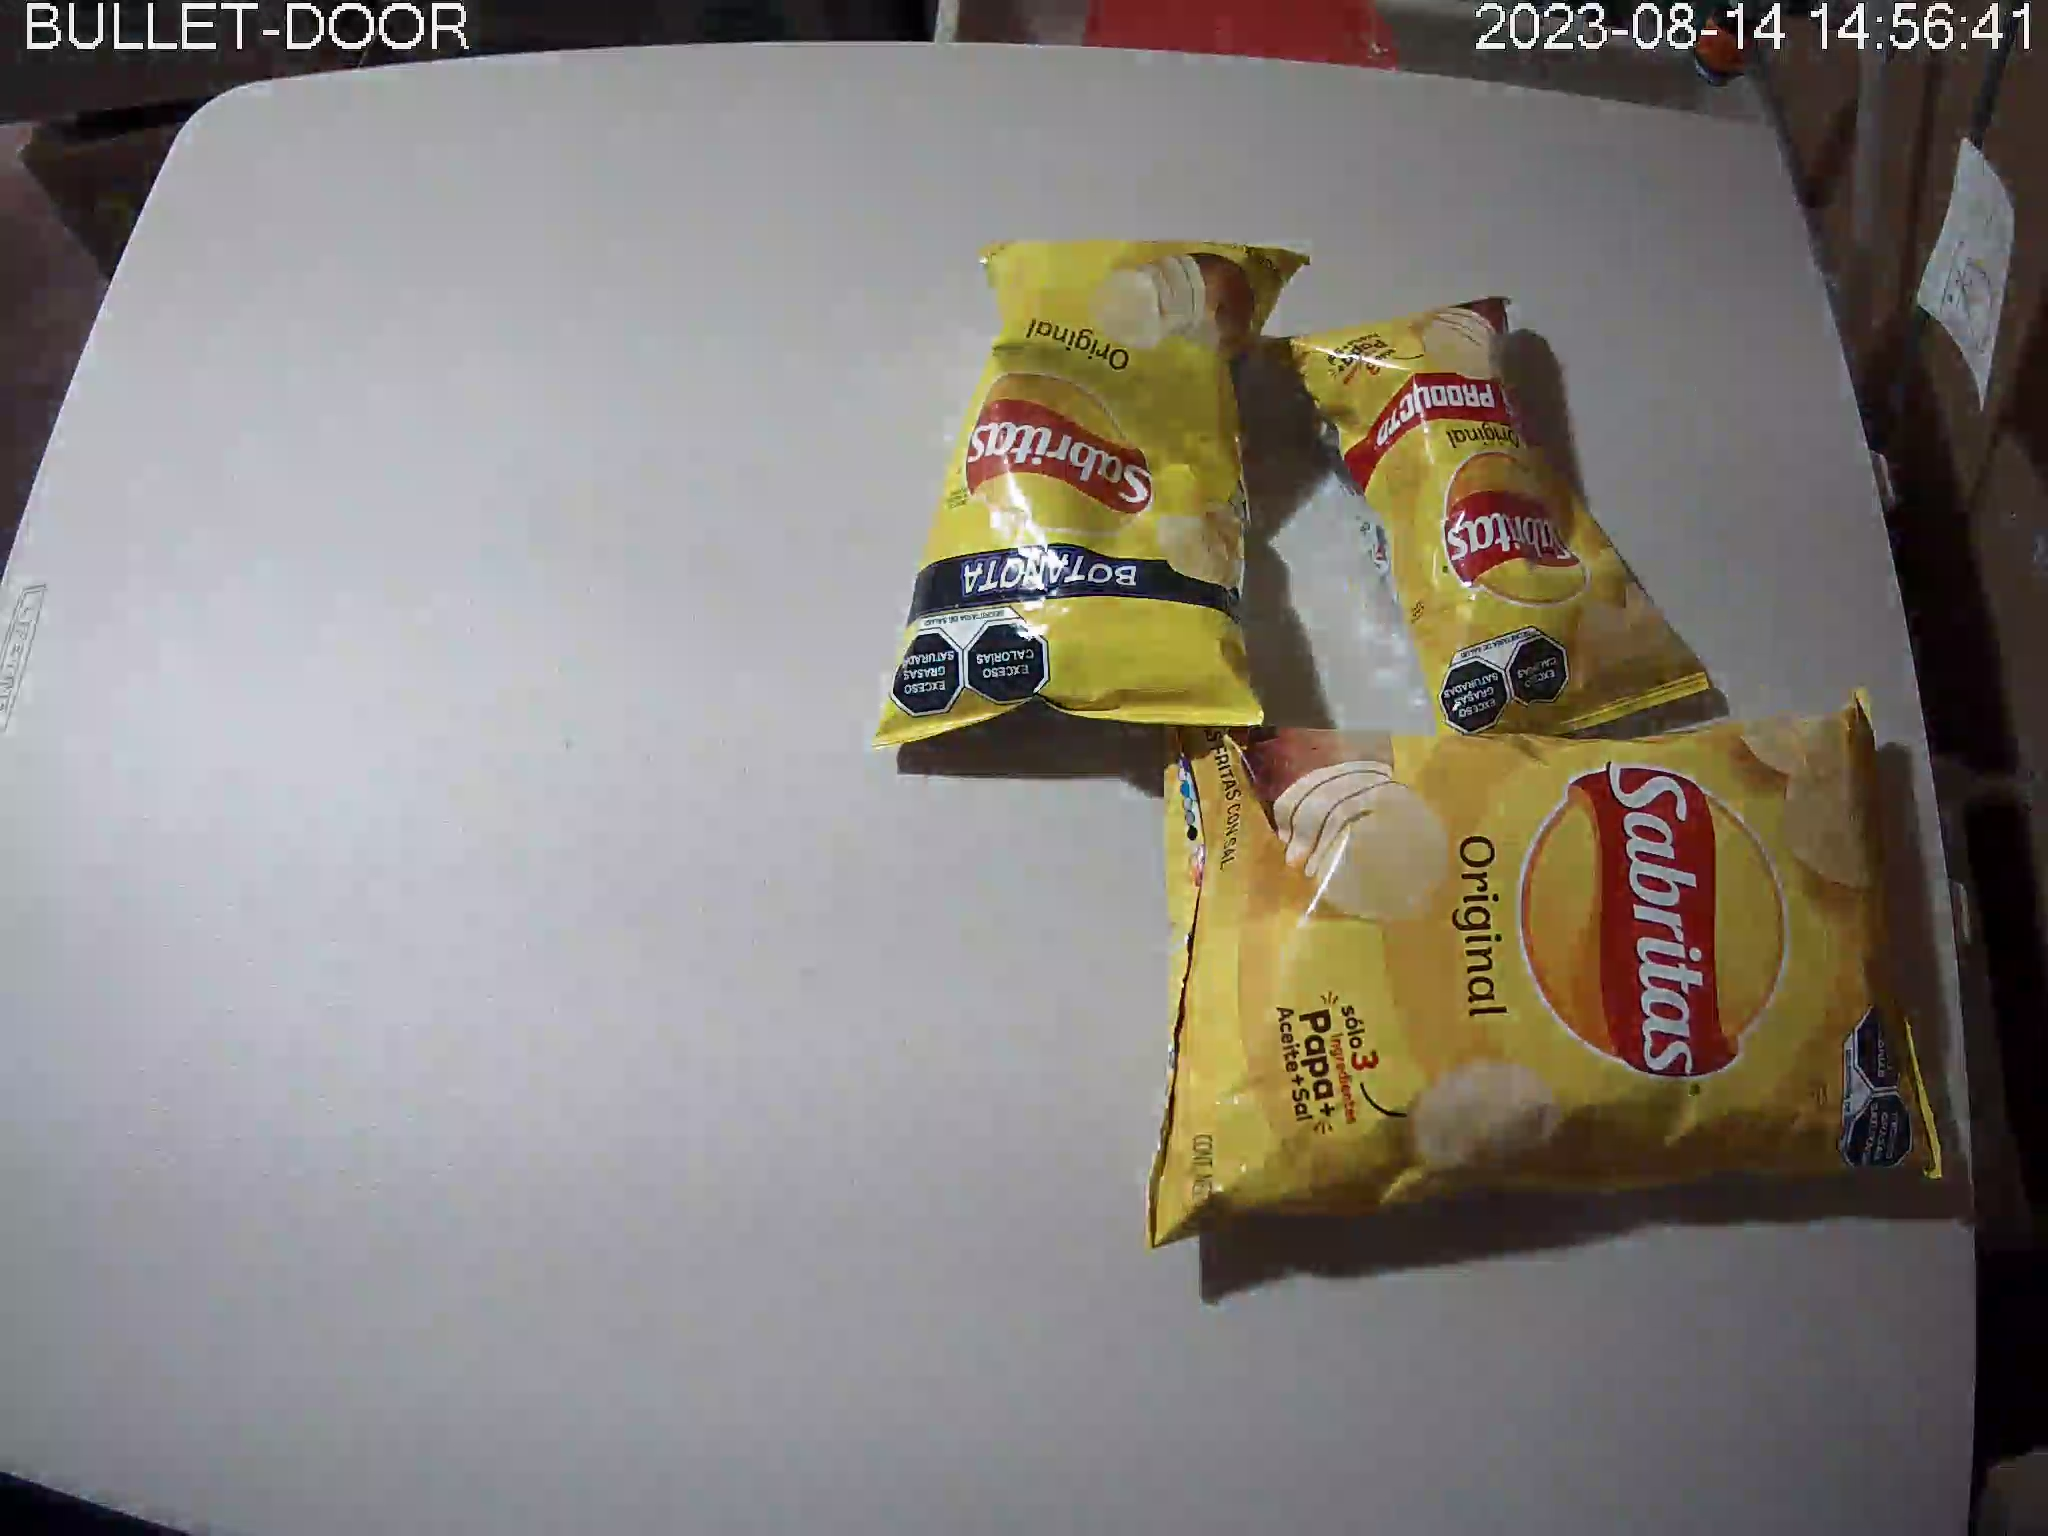Sabritas_160_F: (1147, 687, 1950, 1250)
Sabritas_45_F: (1261, 298, 1714, 750)
Sabritas_64_F: (869, 237, 1313, 749)
